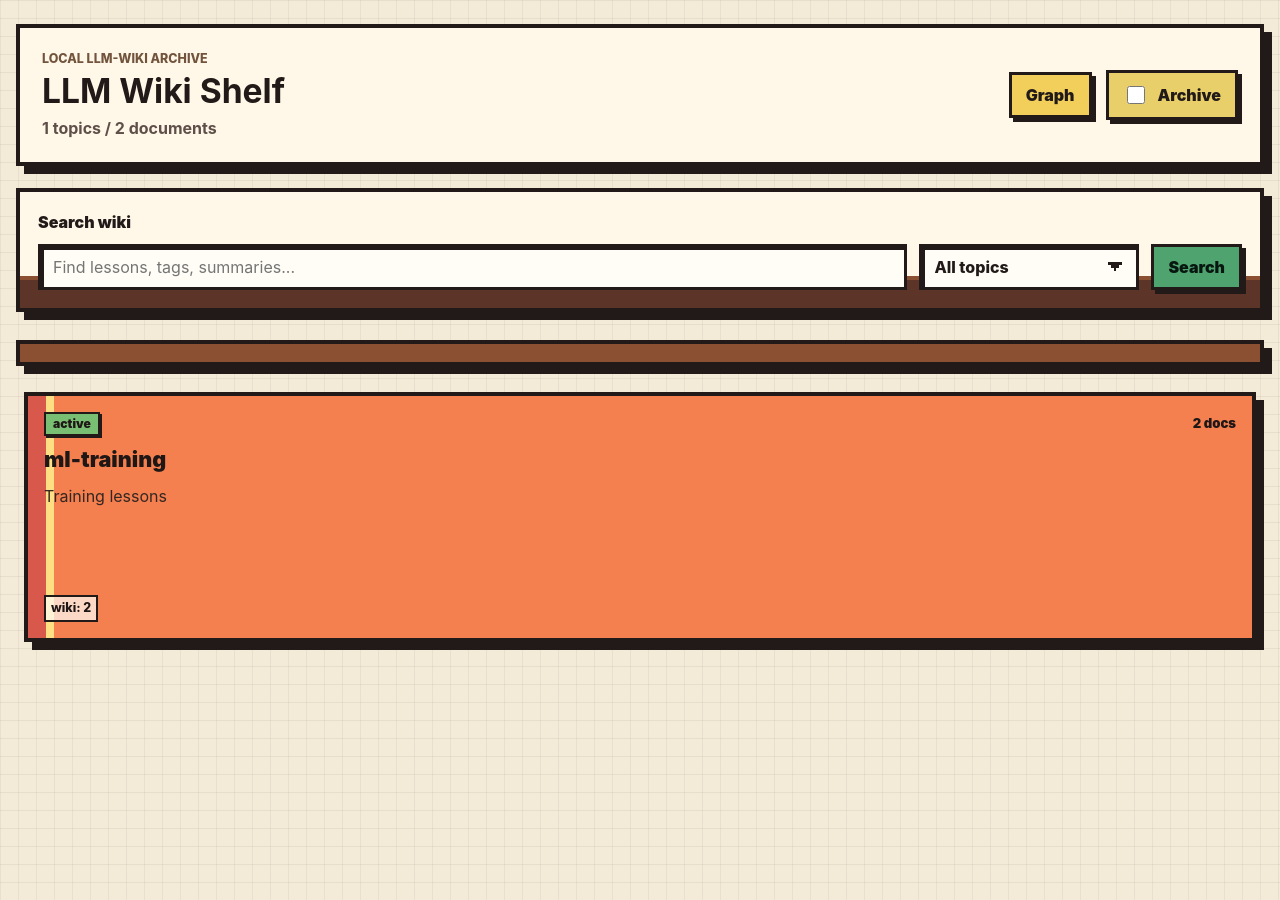
Test: App › opens a linked document from a relative markdown link without resetting to home
Type "index" into the search field labelled "Search wiki".
click(473, 267); type("index")  # box [38, 244, 908, 290]
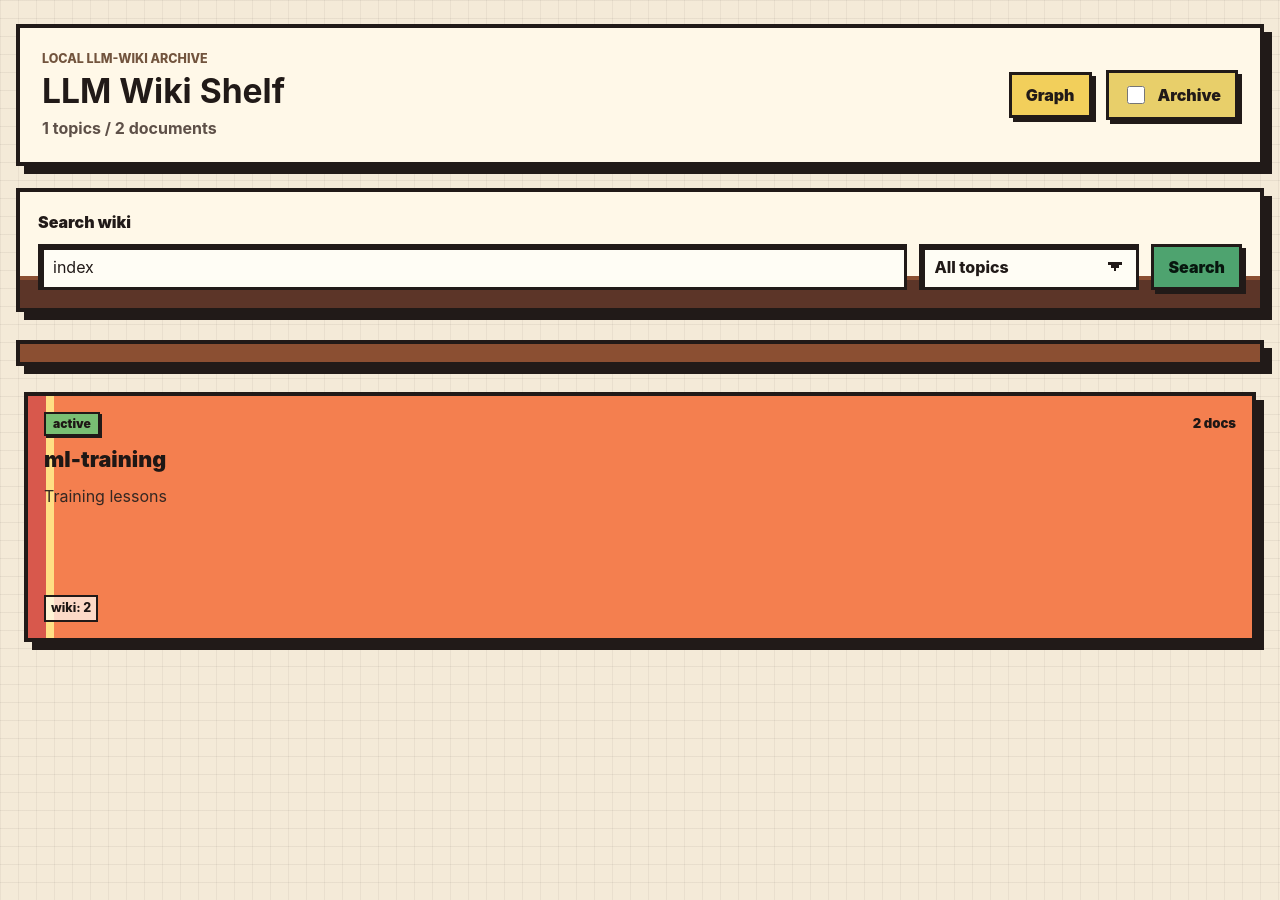
Click the button "Search".
click(1197, 267)  # box [1152, 244, 1242, 290]
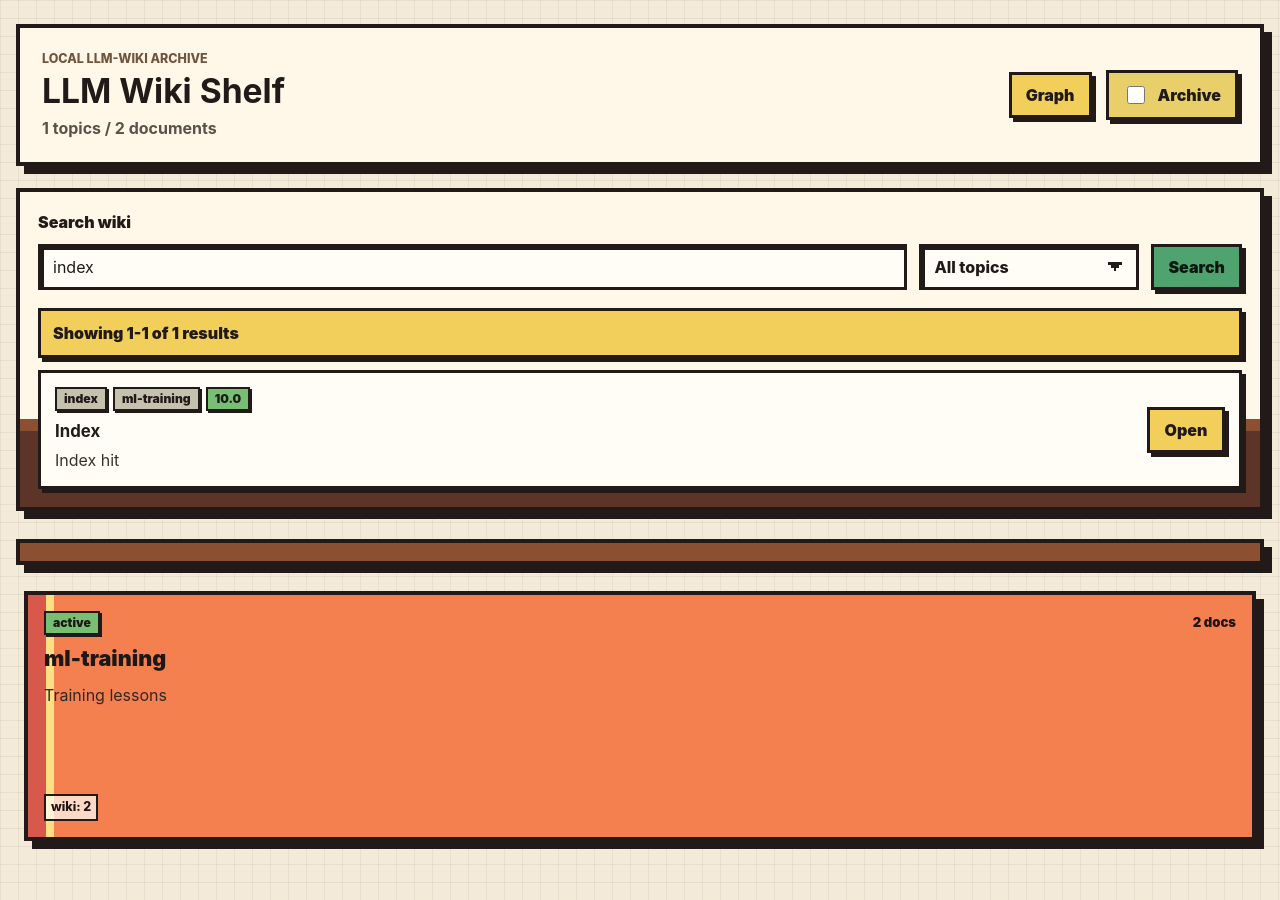
Click the button with aria-label "Open Index".
click(1186, 430)  # box [1147, 407, 1225, 453]
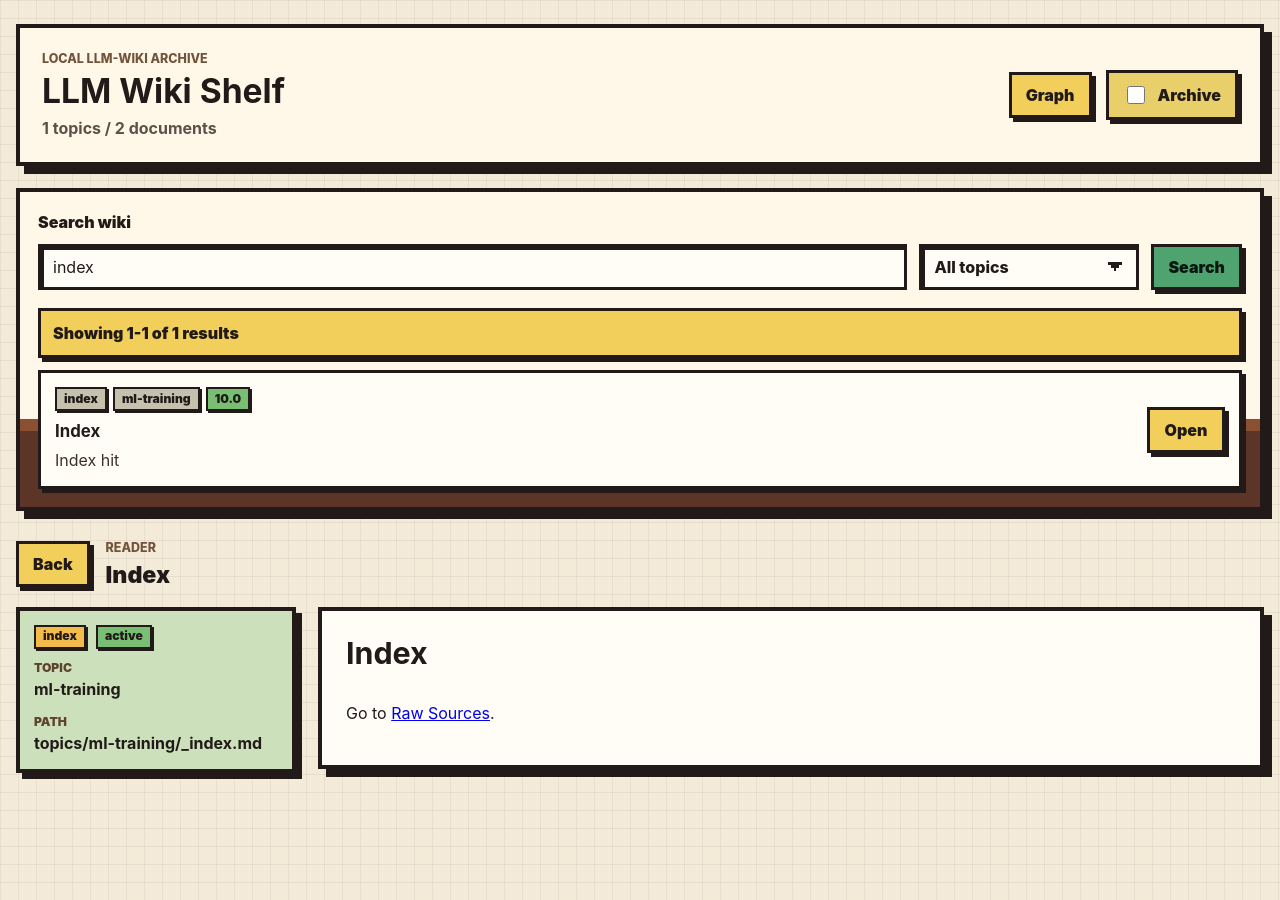
Click the link "Raw Sources".
click(441, 713)  # box [391, 703, 490, 723]
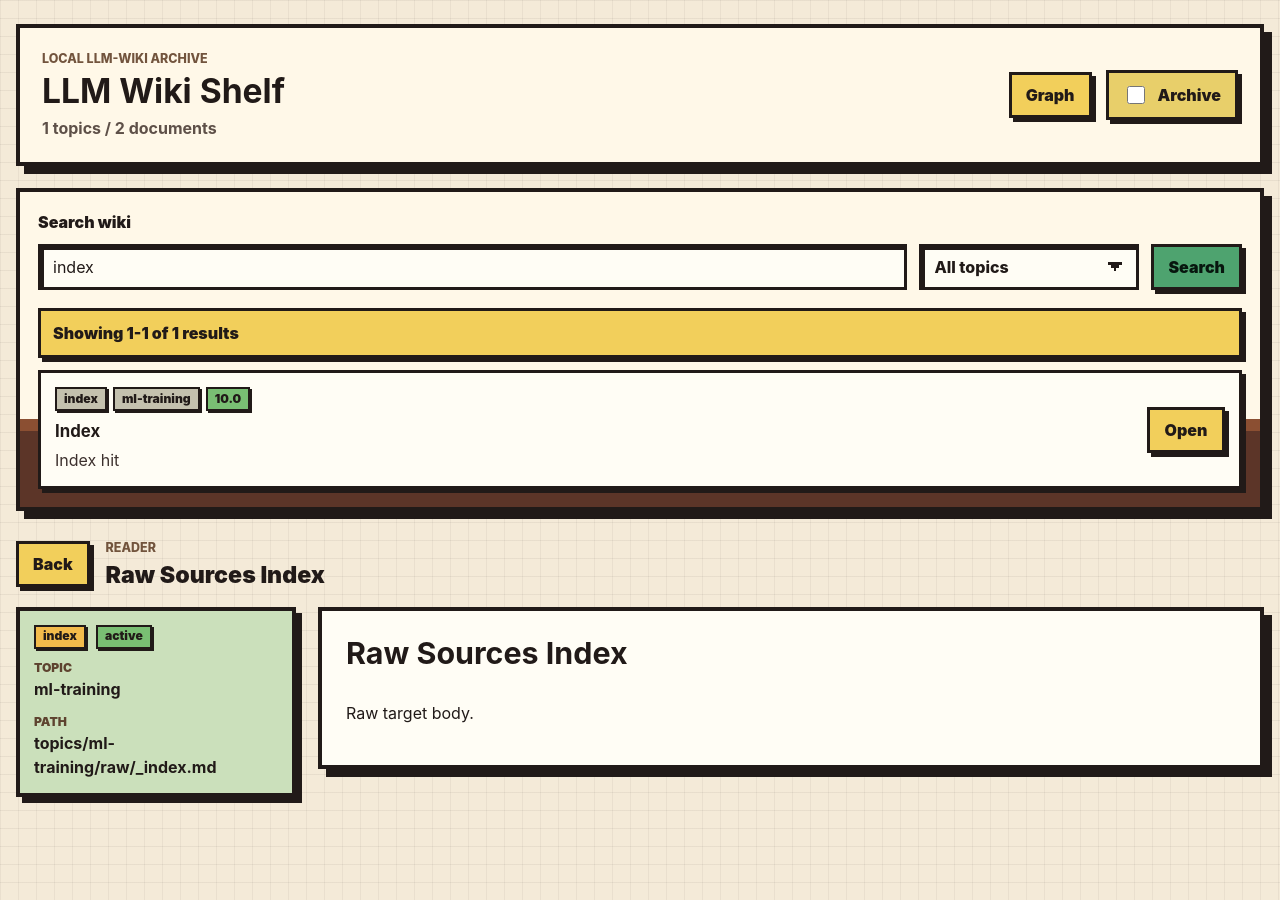
Check: the heading "Raw Sources Index" is shown, box [346, 635, 628, 671]
Check: the text "Raw target body." is shown, box [346, 703, 474, 723]
